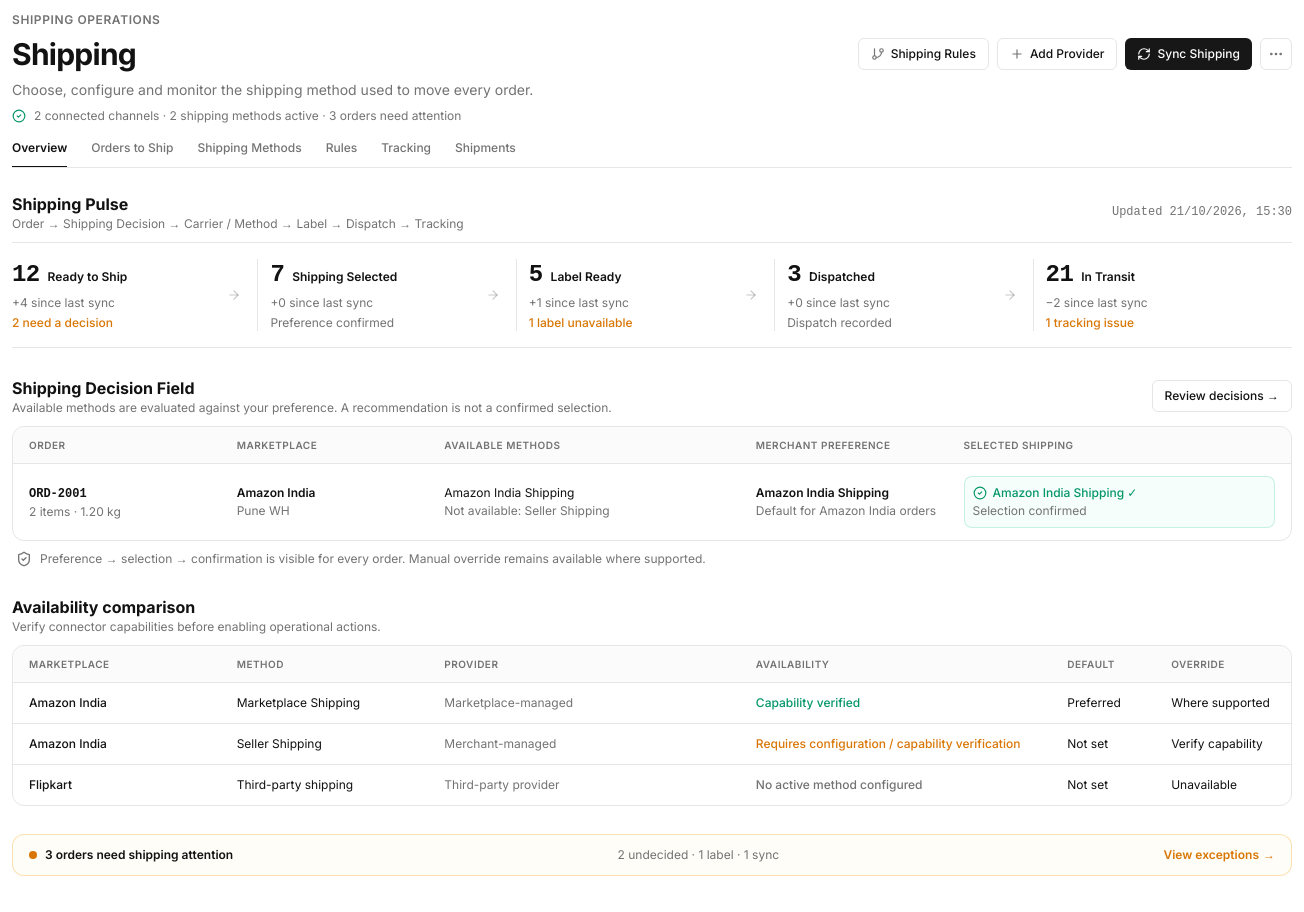
Scenario: sync shipping › a job that failed says why; a running one is picked up again after a reload
The width and height of the screenshot is (1304, 912).
Click the button "Sync Shipping" at (1189, 54), box [1126,38,1252,70]
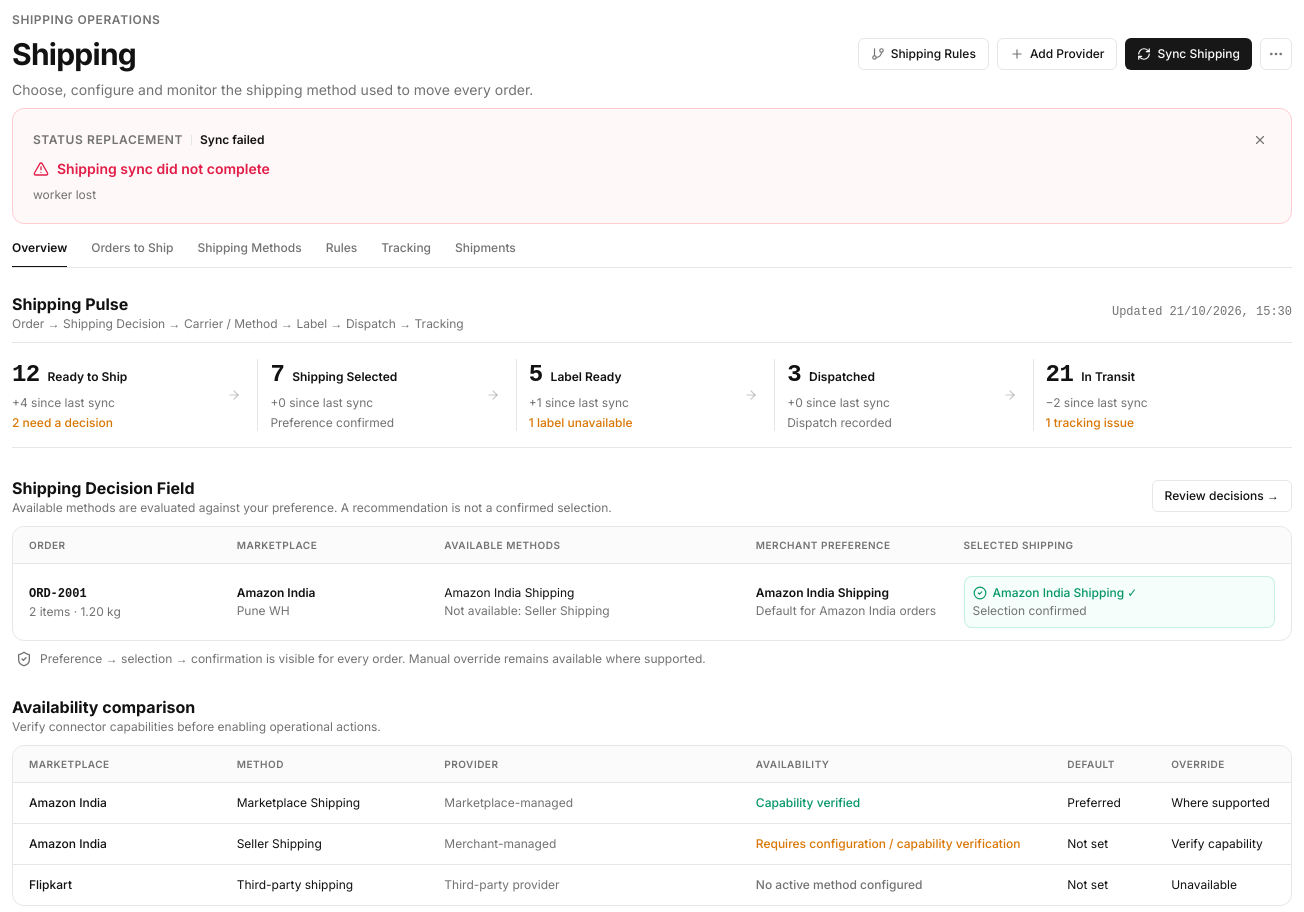
Now the text "Shipping sync did not complete" is shown, box [57,159,270,179]
Now the text "worker lost" is shown, box [33,187,96,202]
